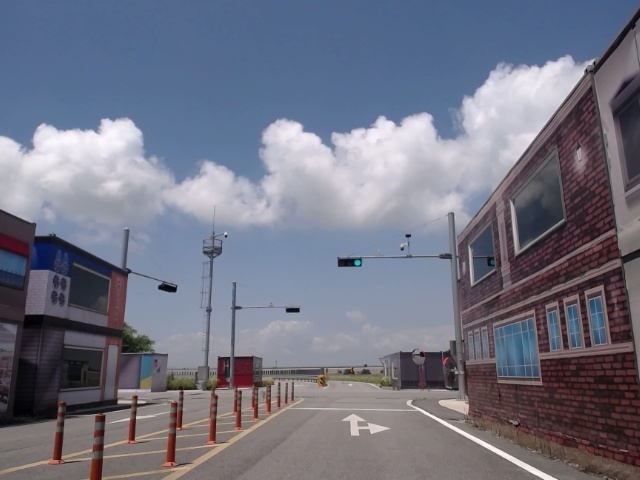green_3: (337, 258, 362, 266)
